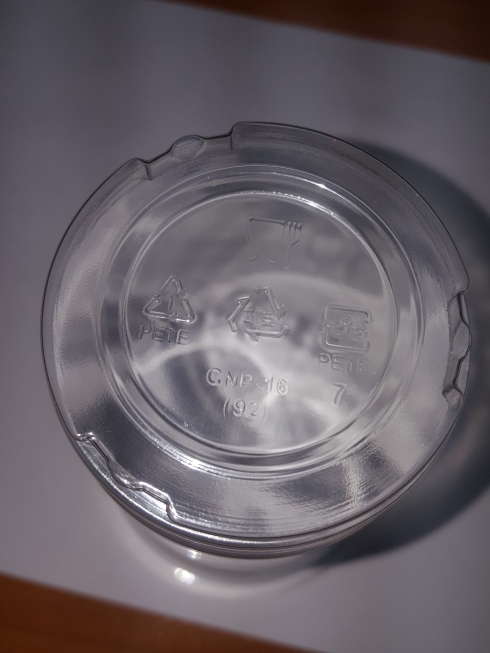recycle: (136, 261, 200, 351)
